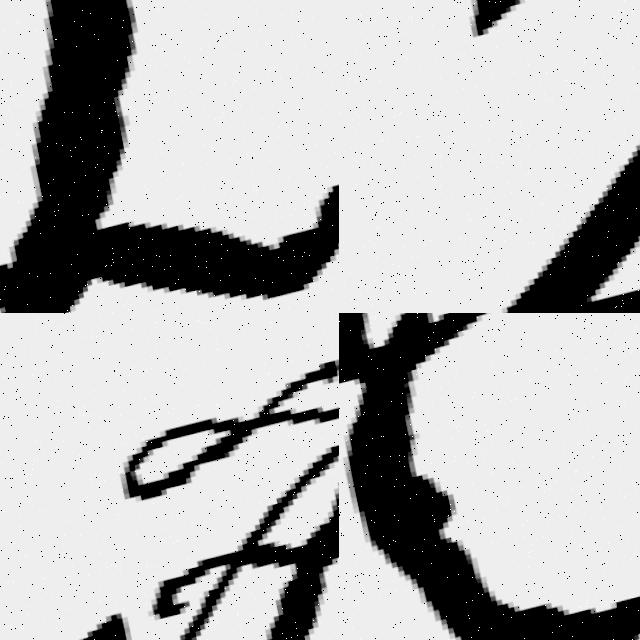2: (339, 0, 640, 313)
A: (0, 322, 339, 640)
O: (339, 313, 640, 640)
